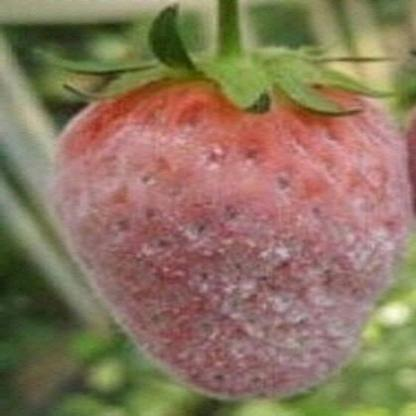Strawberry_Powdery_Mildew_Fruit: (50, 47, 414, 401)
